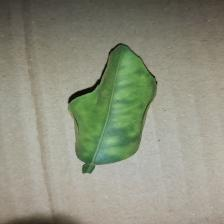greening: (68, 42, 161, 174)
